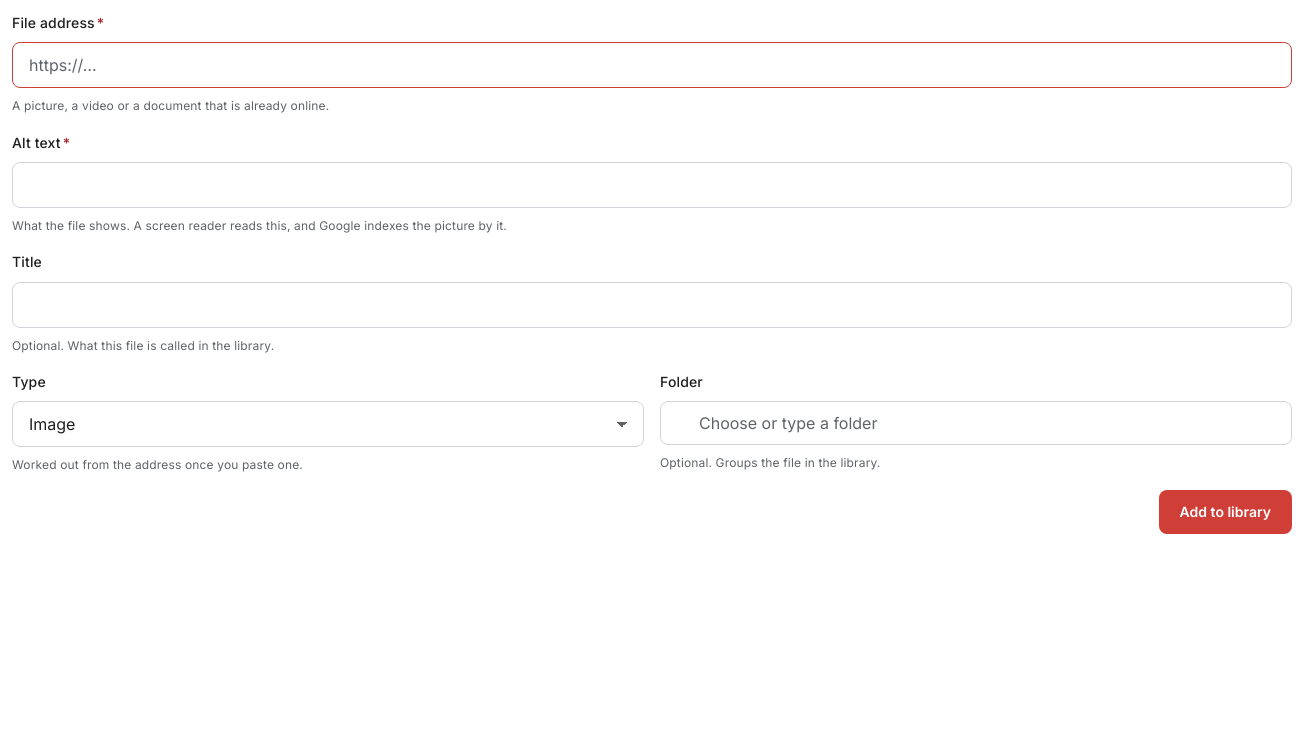
Scenario: says an address is already in the library, under the address
The width and height of the screenshot is (1304, 732).
Type "https://picsum.photos/seed/sna-locality-whitefield/1600/900" into the field labelled "File address*" at (652, 65), box [12,42,1292,88]
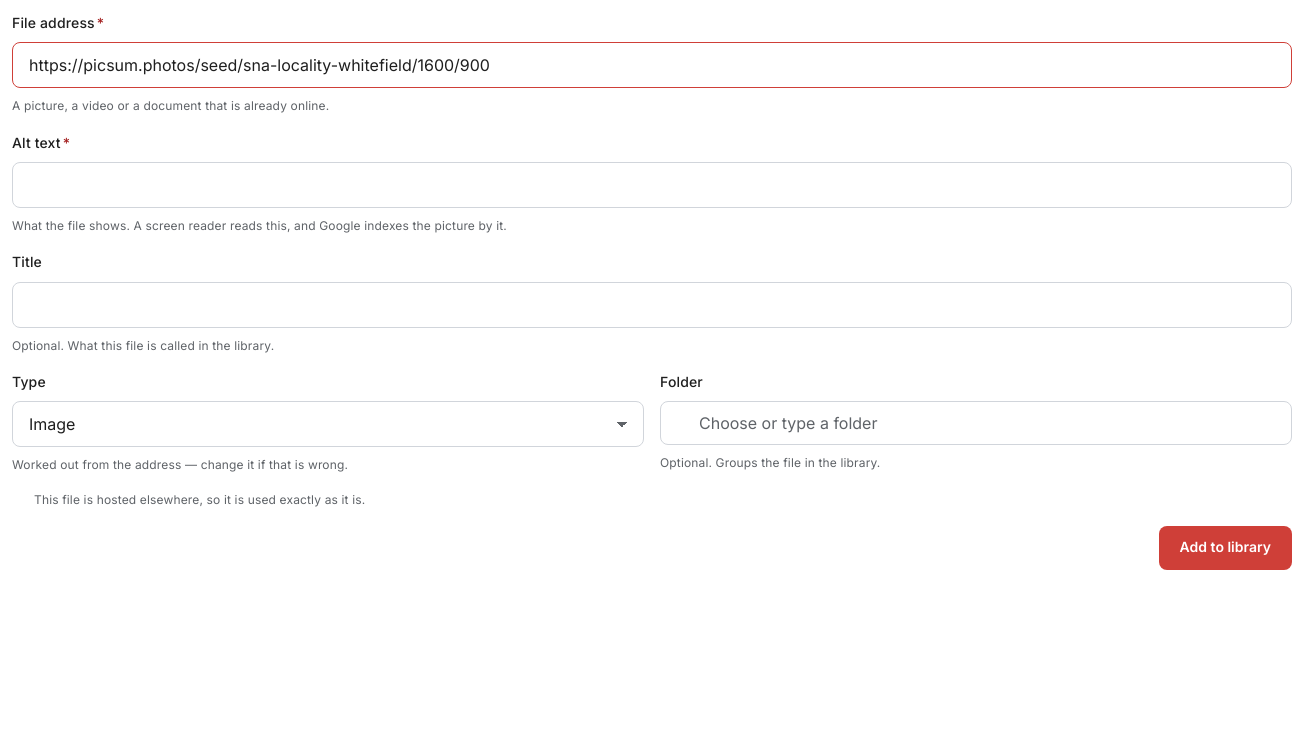
Type "A photograph" into the field labelled "Alt text*" at (652, 185), box [12,162,1292,208]
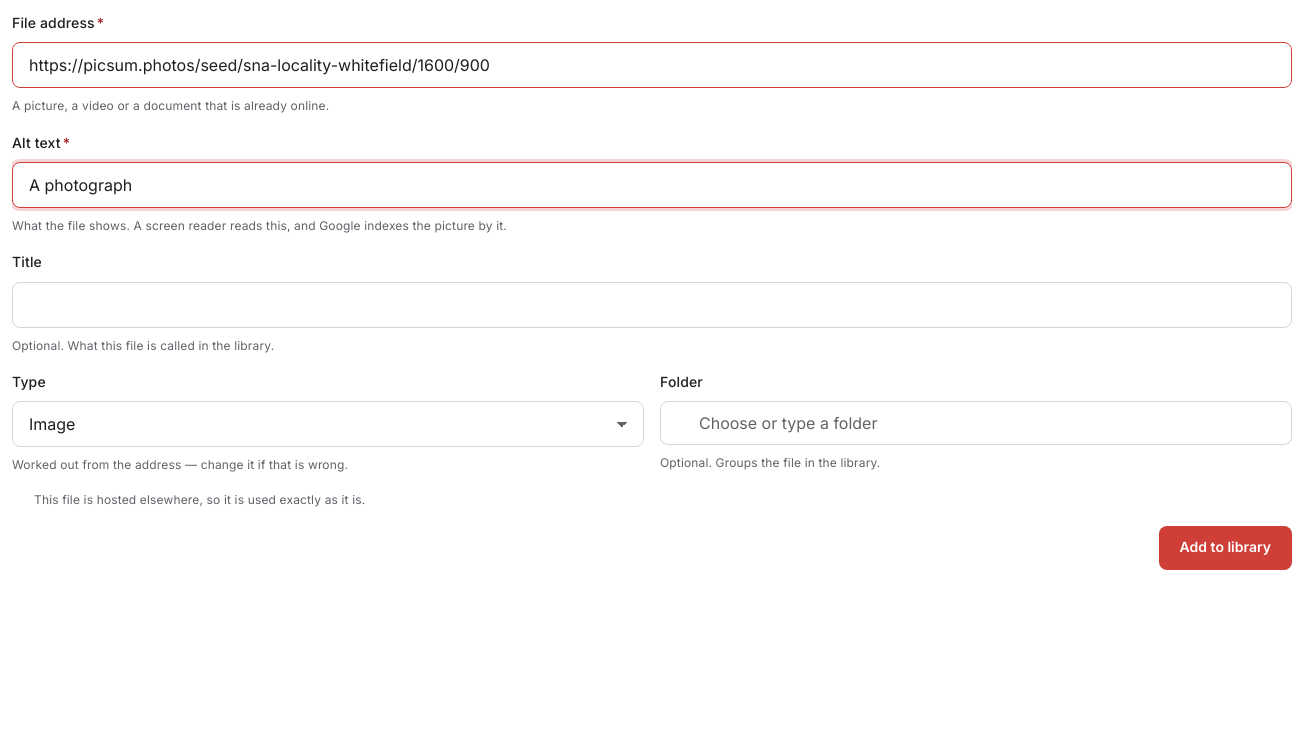
Click the button "Add to library" at (1225, 548), box [1159,526,1292,570]
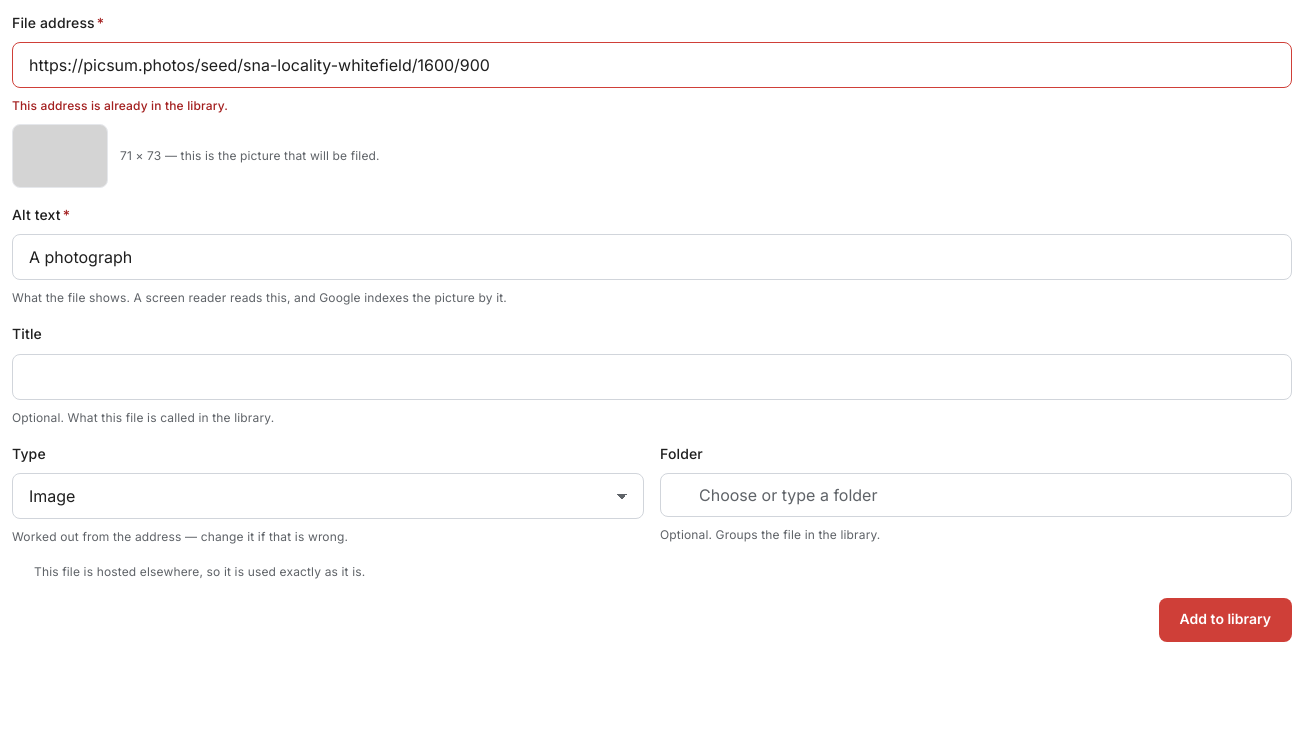
Now the text "This address is already in the library." is shown, box [12,98,228,113]
